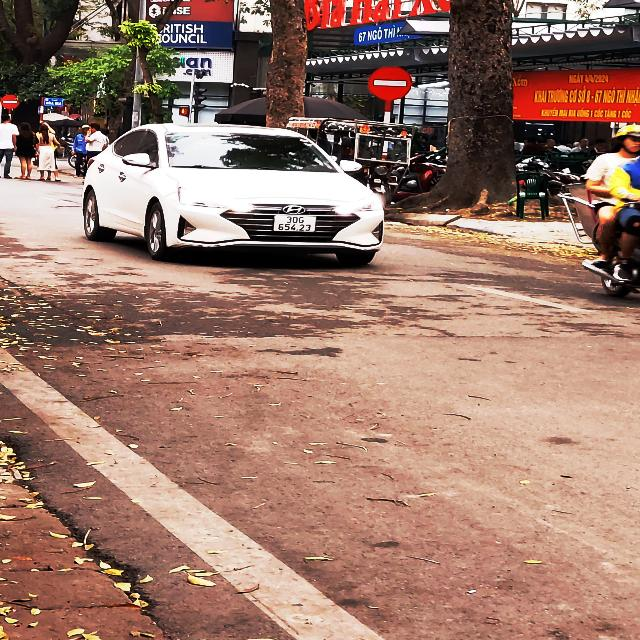license_plate: (272, 214, 322, 236)
